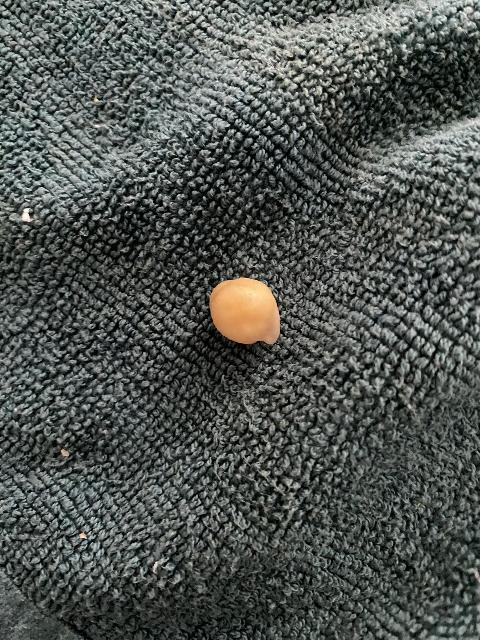Organik: (206, 273, 283, 354)
